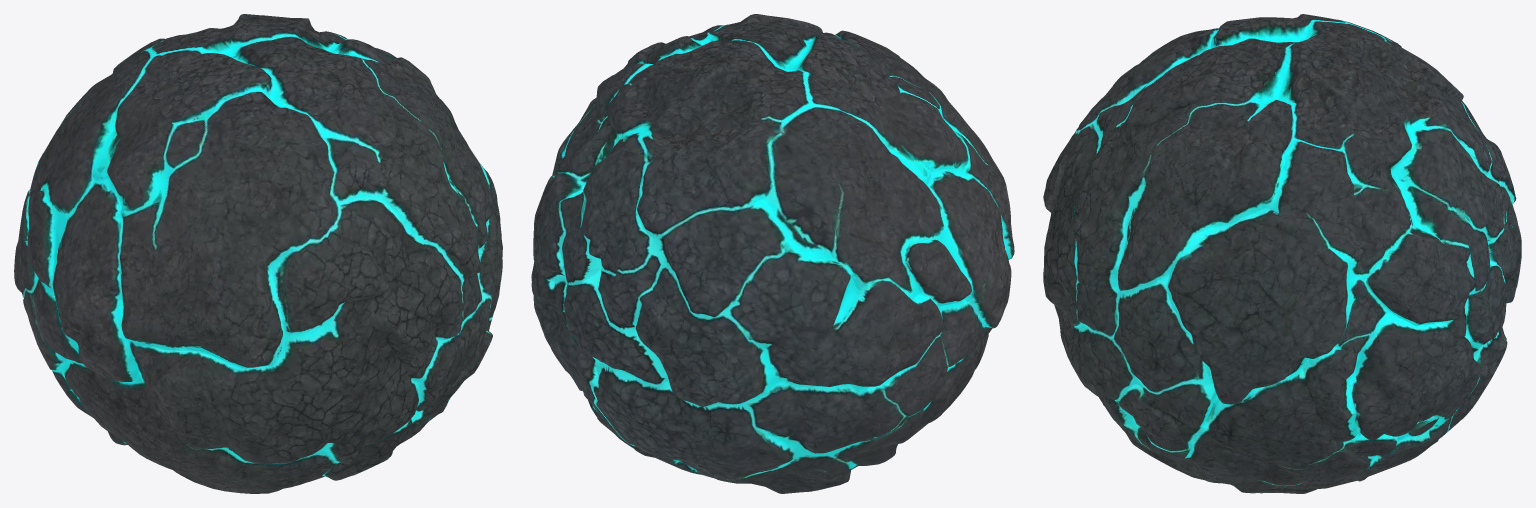
Rendered from model.opt.glb.
The picture shows the model from 3 angles, left to right: view 1: azimuth 30°, elevation 25°; view 2: azimuth 150°, elevation 25°; view 3: azimuth 270°, elevation 25°; orthographic projection.
Size of the model in its own units: 1.9 by 1.87 by 1.86.
Materials: 1 (1 with a texture image).
